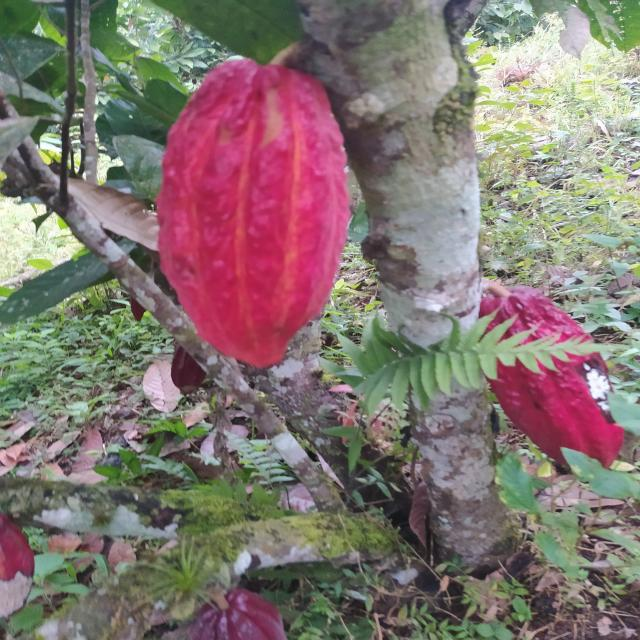Monilia: (479, 286, 624, 477), (0, 511, 36, 623)
Sana: (159, 56, 349, 375)
